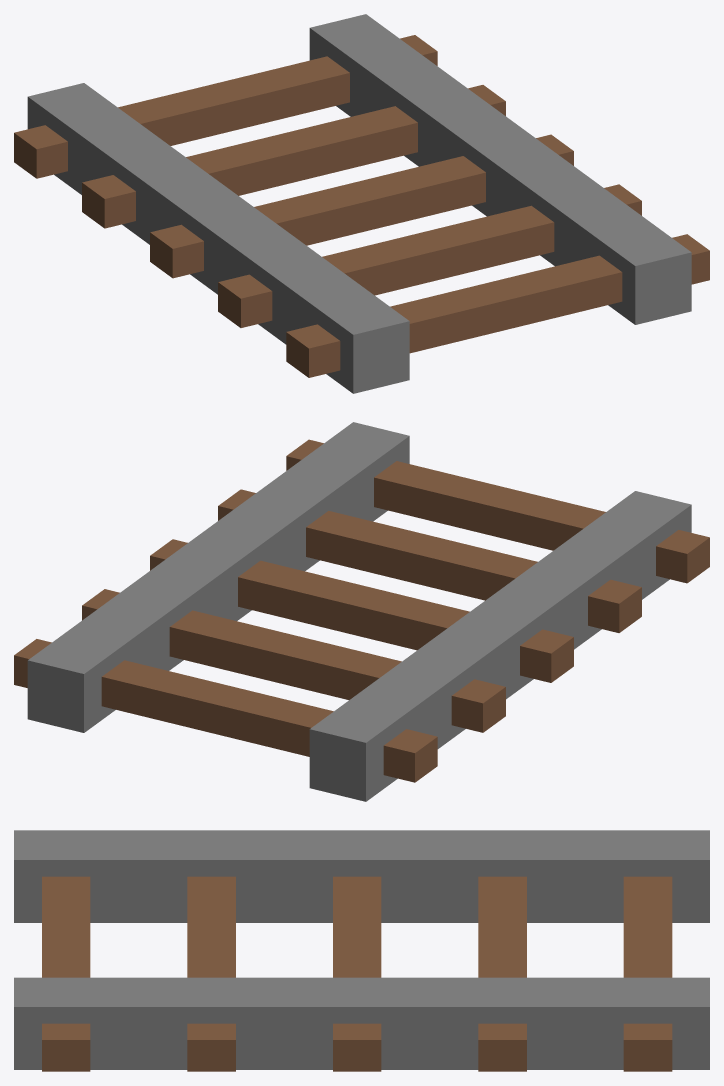
File: rail.fbx
3 renders of one model, top to bottom at view 1: azimuth 30°, elevation 25°; view 2: azimuth 150°, elevation 25°; view 3: azimuth 270°, elevation 25°, orthographic. The views are drawn at different scales.
Visible parts, largest first — view 1: Cube.001, Cube; view 2: Cube.001, Cube; view 3: Cube, Cube.001.
Part boxes in pixels (x1,y1,x2,y2): Cube.001: [14, 35, 709, 377]; Cube: [27, 14, 691, 393]; Cube.001: [14, 439, 709, 782]; Cube: [27, 422, 691, 801]; Cube: [14, 830, 709, 1069]; Cube.001: [42, 876, 672, 1071].
Size of the model in its own units: 142 by 20 by 200.
